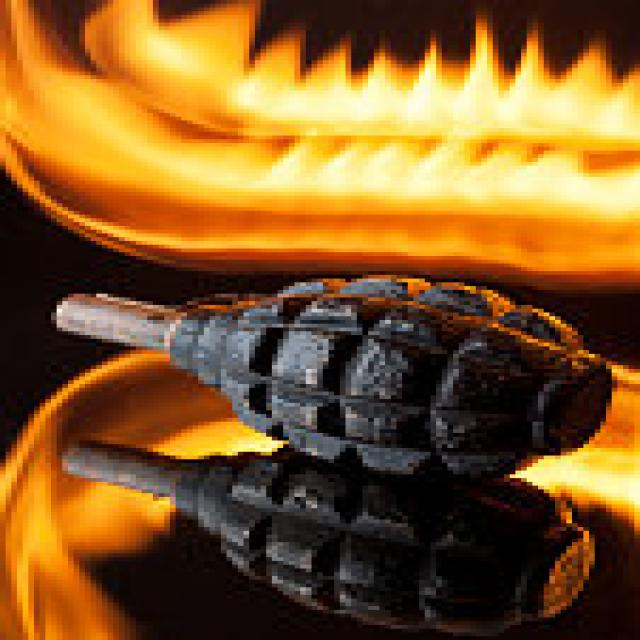grenade: (33, 269, 620, 481)
